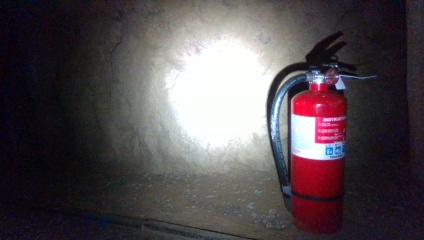fire_extinguisher: (268, 42, 357, 238)
